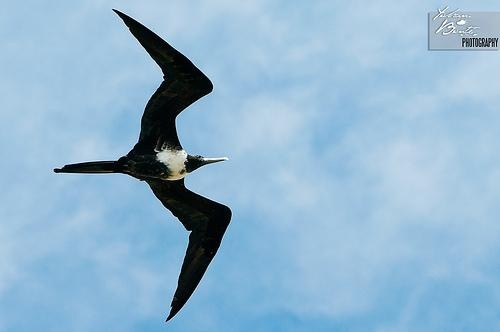bird: (53, 5, 234, 320)
